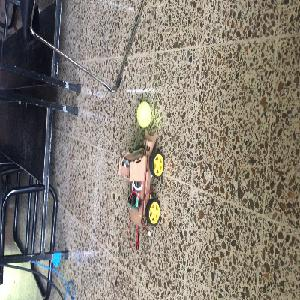Ball: (136, 101, 152, 128)
Robot: (117, 128, 164, 227)
